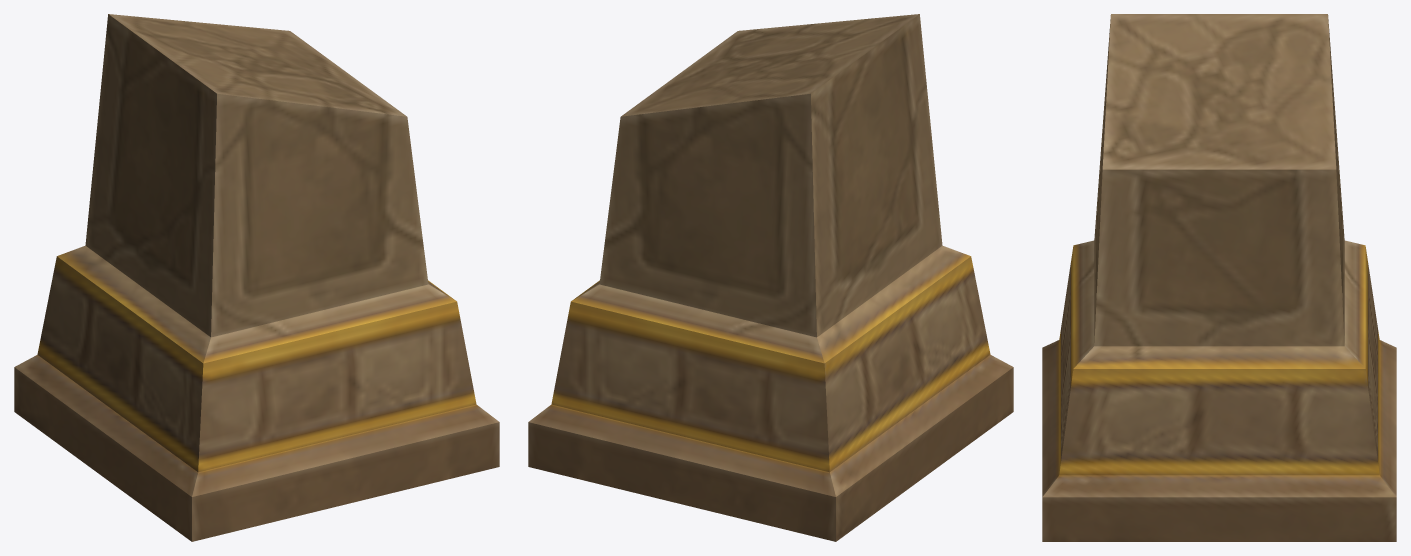
File: desert_dungeon_prop_1_2.FBX
3 renders of one model, left to right at view 1: azimuth 30°, elevation 25°; view 2: azimuth 150°, elevation 25°; view 3: azimuth 270°, elevation 25°, orthographic.
Visible parts, largest first — view 1: Object018; view 2: Object018; view 3: Object018.
Boxes of the visible parts, <box> form: Object018: <box>14,14,499,541</box>; Object018: <box>528,14,1013,541</box>; Object018: <box>1042,14,1396,541</box>.
Size of the model in its own units: 28.03 by 28.03 by 35.57.
